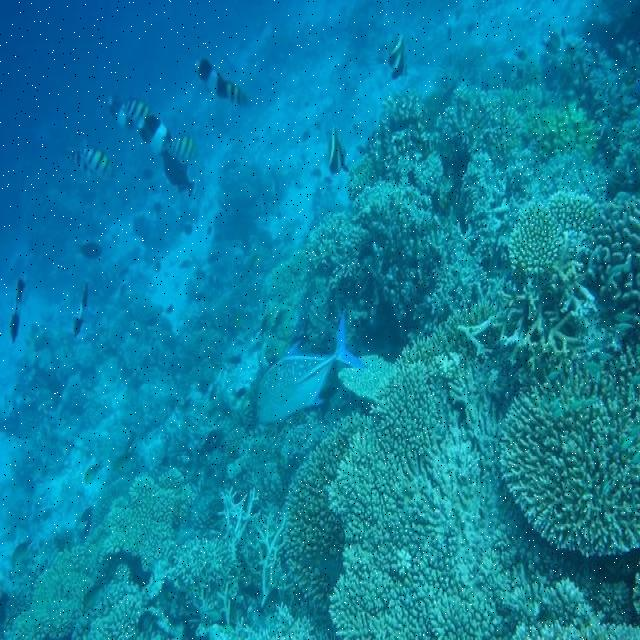fish: (256, 314, 364, 425), (193, 58, 250, 107), (104, 95, 151, 129), (163, 151, 196, 194), (325, 127, 349, 179), (81, 146, 114, 181), (142, 115, 170, 153), (10, 277, 26, 343), (387, 37, 411, 78), (73, 280, 90, 335), (60, 147, 92, 172), (170, 134, 200, 160)
reefs: (268, 37, 639, 397), (327, 299, 639, 639), (9, 466, 192, 639), (499, 363, 639, 557), (166, 488, 337, 639), (283, 414, 365, 611), (505, 190, 601, 281)
